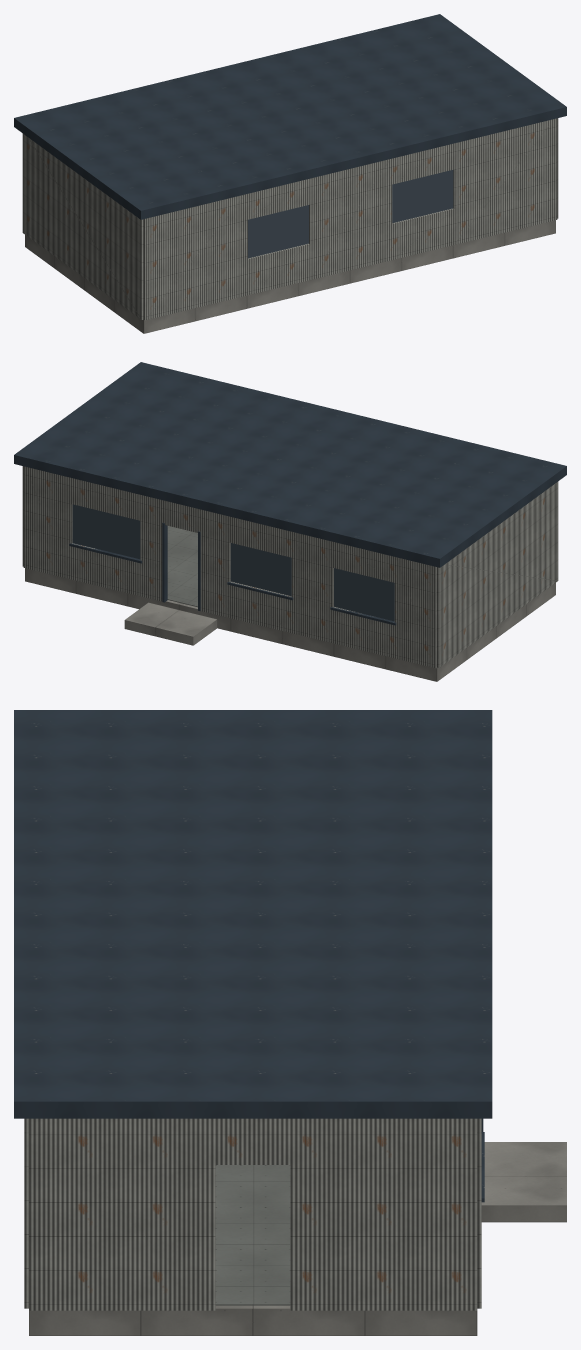
File: site_office.glb
3 views of the same model, one above another, from view 1: azimuth 30°, elevation 25°; view 2: azimuth 150°, elevation 25°; view 3: azimuth 270°, elevation 25° (orthographic). The views are drawn at different scales.
Parts seen in each view (by area): view 1: site_office; view 2: site_office; view 3: site_office.
Boxes of the visible parts, <box> form: site_office: <box>14,14,566,333</box>; site_office: <box>14,362,566,681</box>; site_office: <box>14,710,566,1335</box>.
Bounding box in the file's own units: 12.4 × 3.55 × 7.4.
5 materials, 4 textured.
